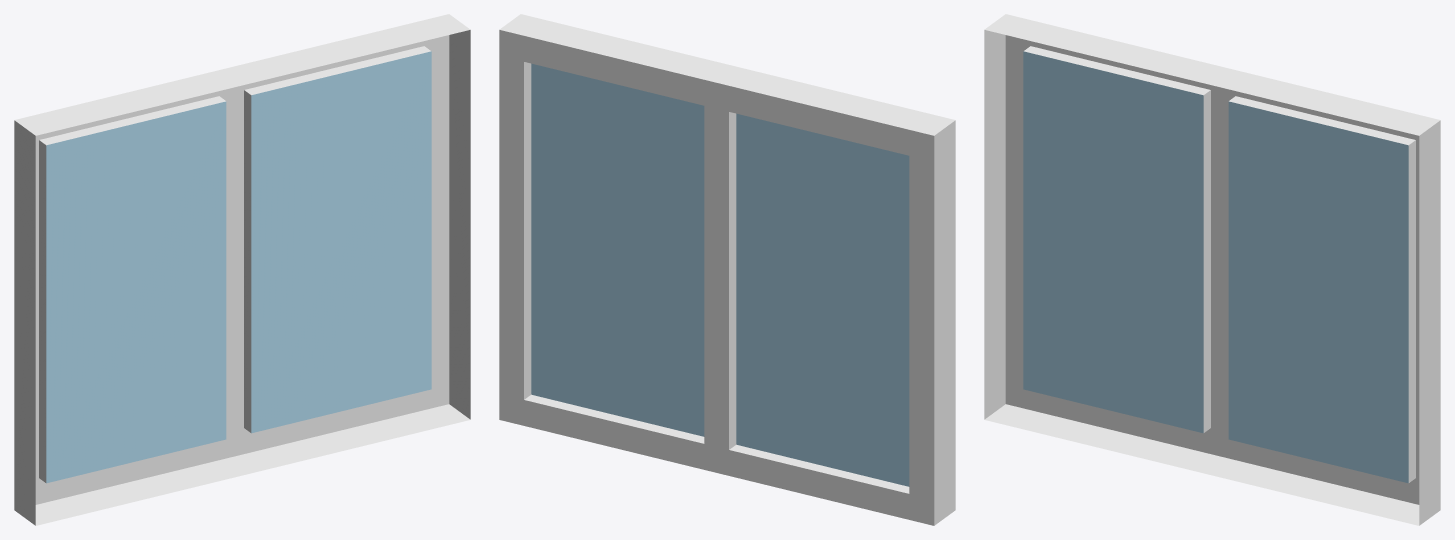
The model's file is TwoBigWindow.fbx.
3 renders of one model, left to right at view 1: azimuth 30°, elevation 25°; view 2: azimuth 150°, elevation 25°; view 3: azimuth 330°, elevation 25°, orthographic.
Visible parts, largest first — view 1: TwoBigWindow_LOD0; view 2: TwoBigWindow_LOD0; view 3: TwoBigWindow_LOD0.
Part boxes in pixels (x1=…): TwoBigWindow_LOD0: x1=14, y1=14, x2=470, y2=525; TwoBigWindow_LOD0: x1=499, y1=14, x2=955, y2=525; TwoBigWindow_LOD0: x1=984, y1=14, x2=1440, y2=525.
Size of what is drawn, in the model's own units: 350 by 300 by 30.
